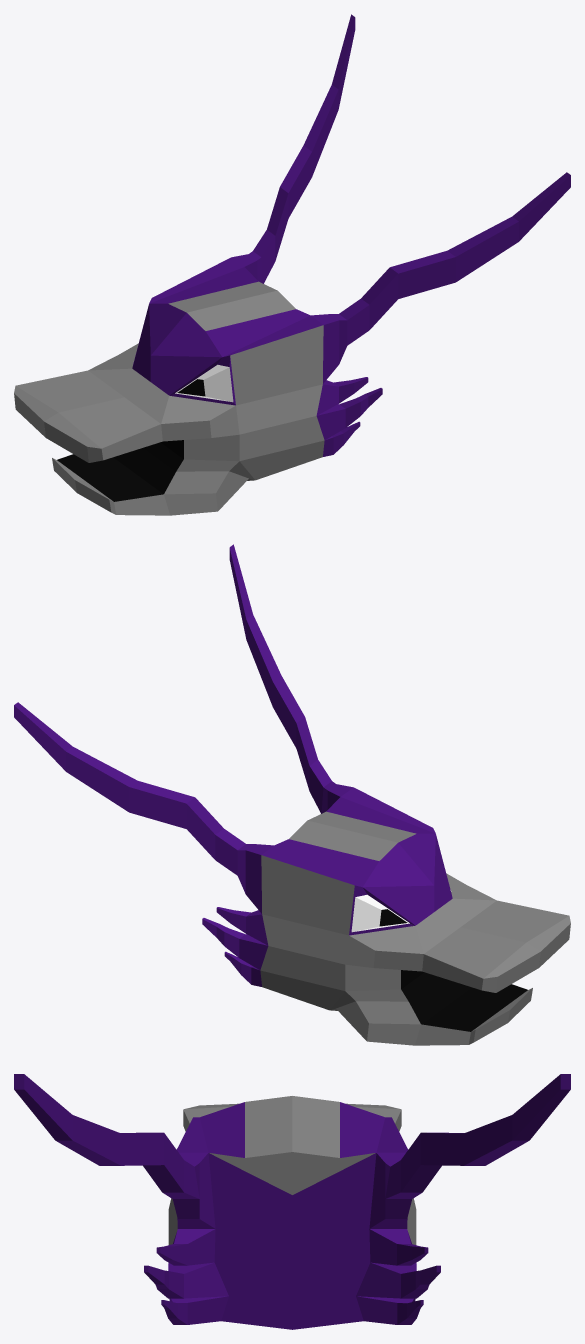
Rendered from DragonHead.fbx.
The picture shows the model from 3 angles, top to bottom: view 1: azimuth 30°, elevation 25°; view 2: azimuth 150°, elevation 25°; view 3: azimuth 270°, elevation 25°; orthographic projection. The views are drawn at different scales.
Visible parts, largest first — view 1: Cube; view 2: Cube; view 3: Cube.
Part boxes in pixels (x1,y1,x2,y2): Cube: (14, 14, 570, 515); Cube: (14, 544, 570, 1045); Cube: (14, 1074, 570, 1329).
Size of the model in its own units: 658 by 472 by 600.
